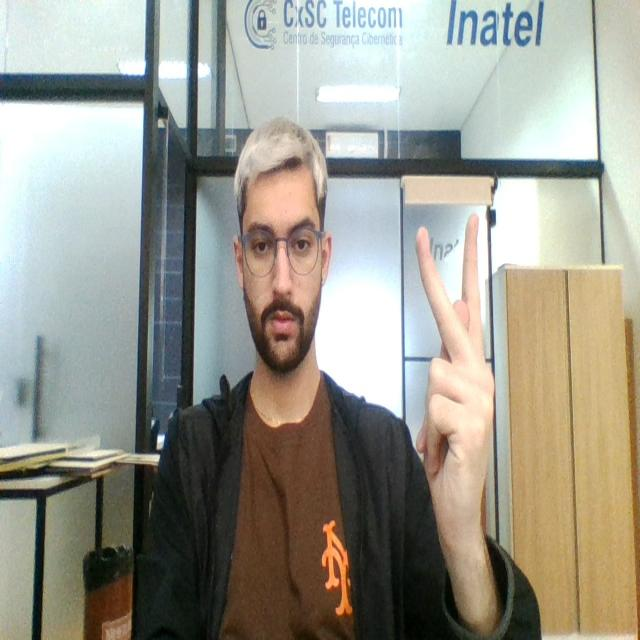K: (406, 210, 503, 516)
